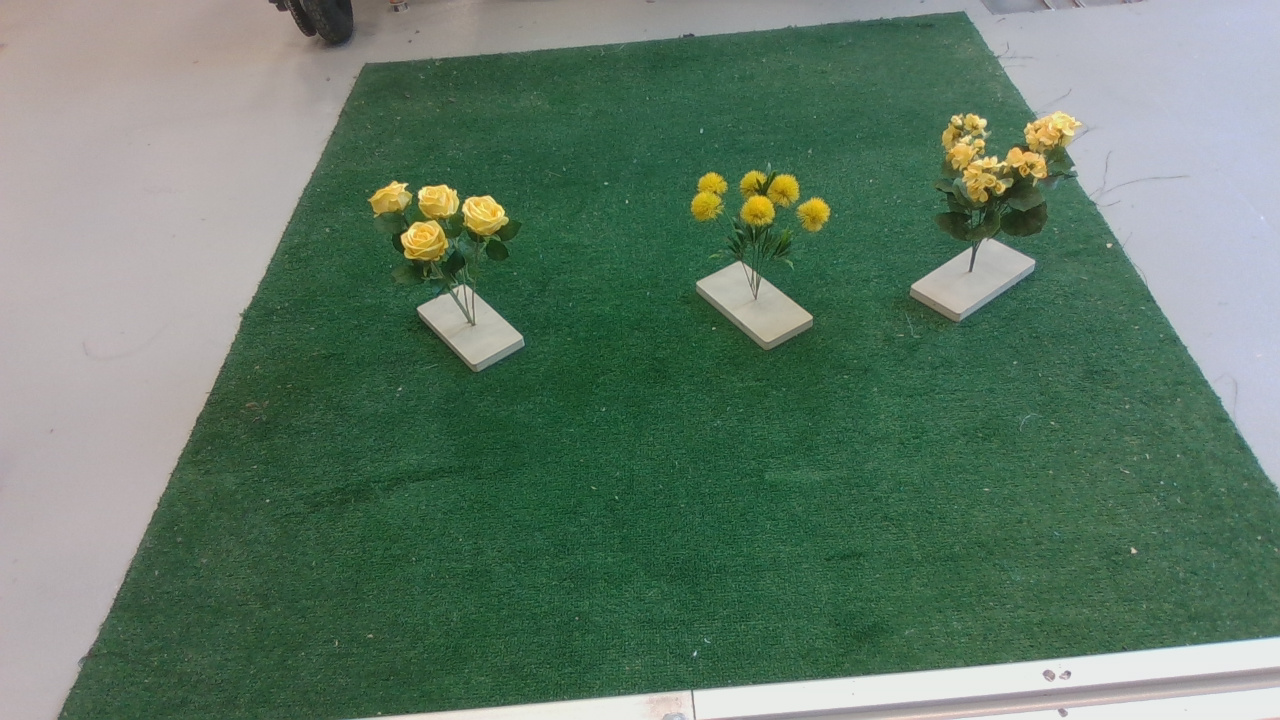dandelion: (696, 160, 841, 281)
geranium: (936, 102, 1091, 250)
rose: (369, 172, 535, 304)
